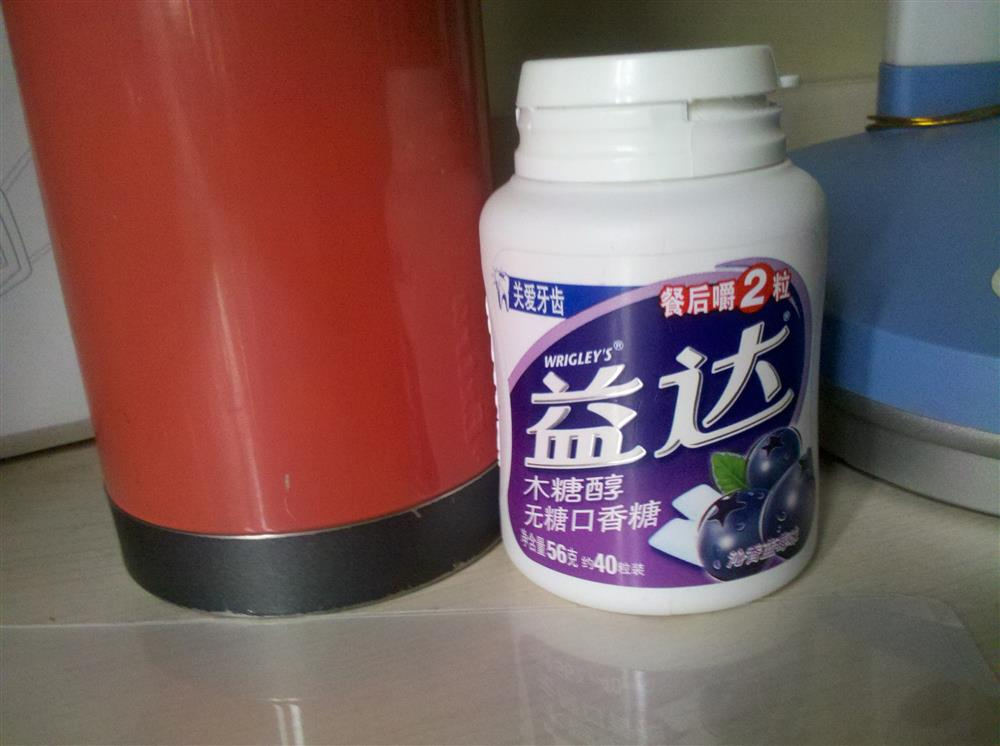Extra_Chewing_Gum: (454, 49, 822, 611)
